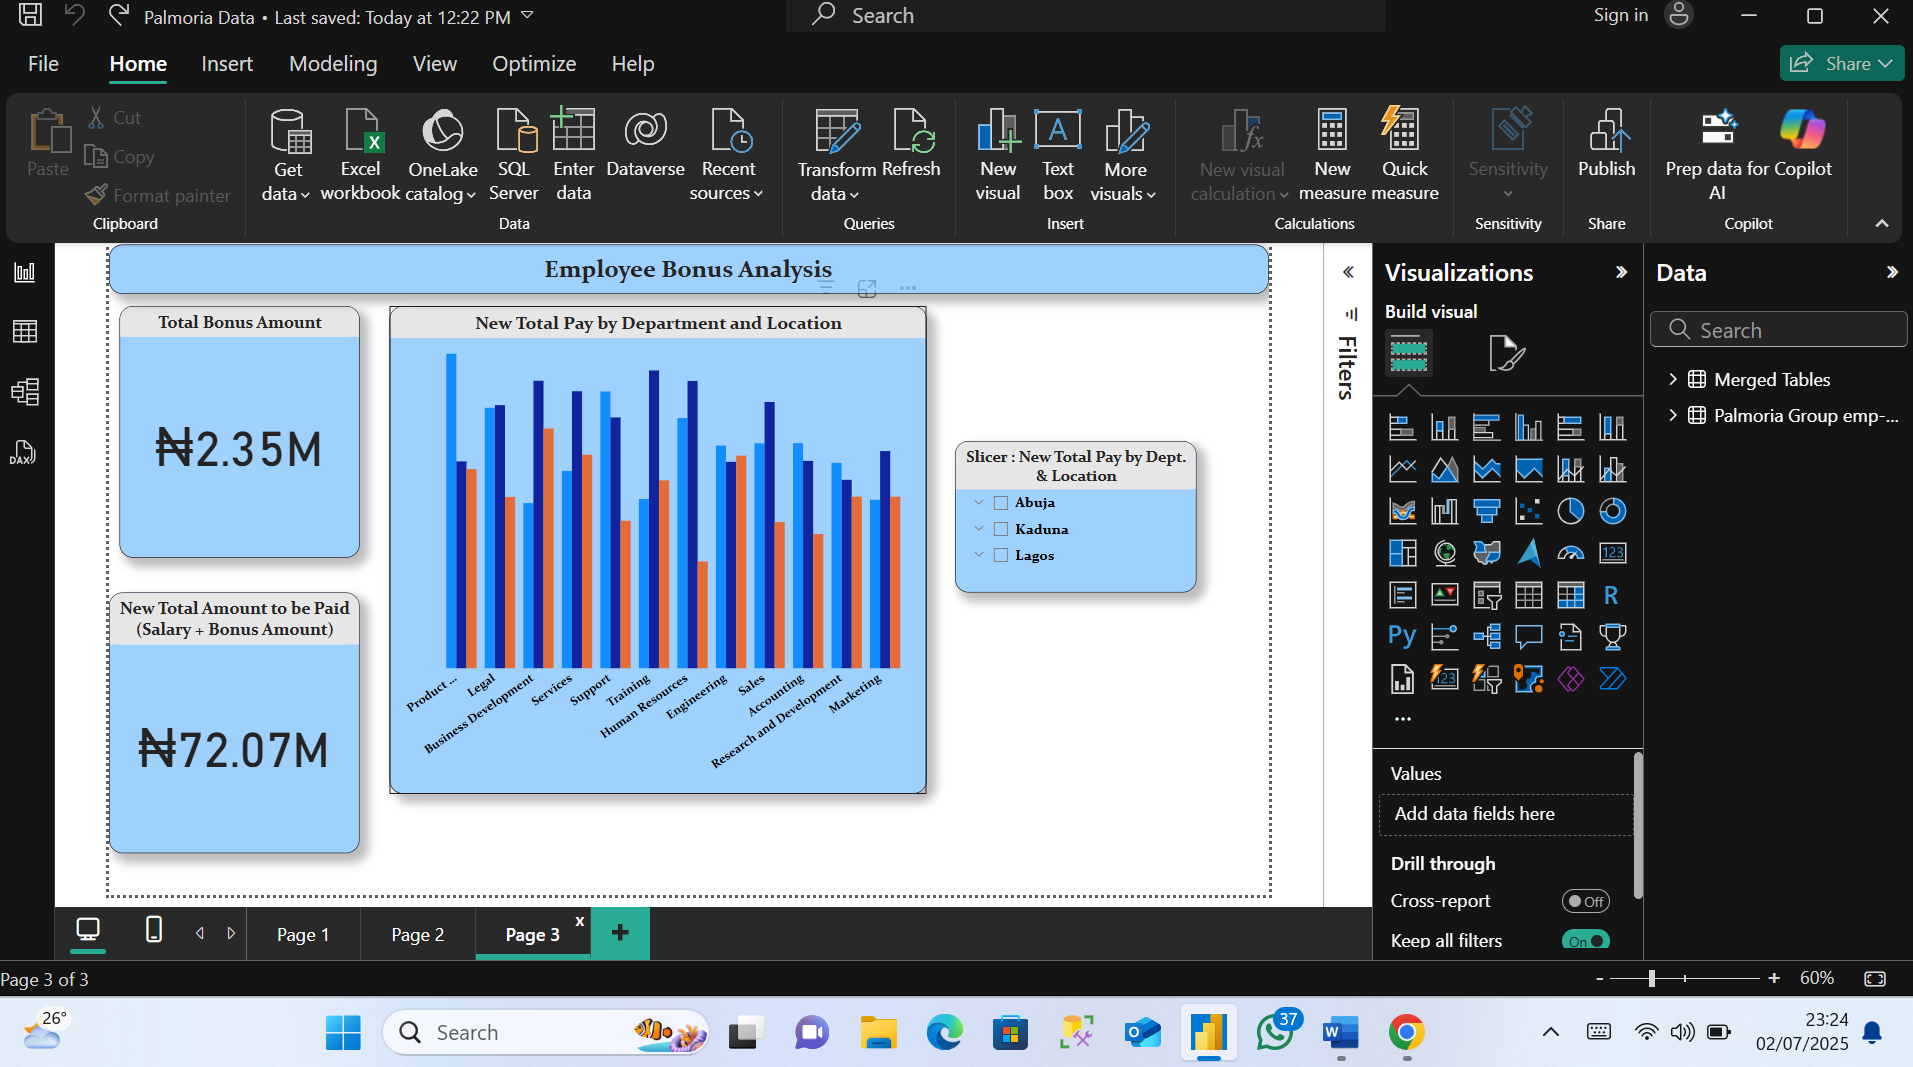

The dashboard page shown, as its layout file describes it:
{"tool":"powerbi","page":{"name":"Page 3","canvas":[1280,720],"ordinal":2},"visuals":[{"type":"clusteredColumnChart","title":"New Total Pay by Department and Location","fields":{"Category":["Merged Tables.Department"],"Y":["Sum(Merged Tables.New Total Pay)"],"Series":["Merged Tables.Location"]},"box":[309.8,69.6,593,538.4],"z":0},{"type":"card","title":"New Total Amount to be Paid (Salary + Bonus Amount)","fields":{"Values":["Sum(Merged Tables.New Total Pay)"]},"box":[0,386,276.6,288.2],"z":1000},{"type":"card","title":"Total Bonus Amount","fields":{"Values":["Sum(Merged Tables.Bonus Amount)"]},"box":[11.6,69.6,265,278.3],"z":2000},{"type":"slicer","title":"Slicer : New Total Pay by Dept. & Location","fields":{"Values":["Merged Tables.Location","Merged Tables.Department"]},"box":[934.3,218.7,266.7,167.3],"z":3000},{"type":"textbox","box":[0,1.7,1280.5,54.7],"z":4000}]}

Visuals, with their boxes on the page's 1280x720 design canvas (x1, y1, x2, y2). These are canvas units, not pixel positions in the 1913x1067 screenshot, which may show the page scaled, cropped or inside an application window:
"New Total Pay by Department and Location" clusteredColumnChart: [310, 70, 903, 608]
"New Total Amount to be Paid (Salary + Bonus Amount)" card: [0, 386, 277, 674]
"Total Bonus Amount" card: [12, 70, 277, 348]
"Slicer : New Total Pay by Dept. & Location" slicer: [934, 219, 1201, 386]
textbox: [0, 2, 1280, 56]
